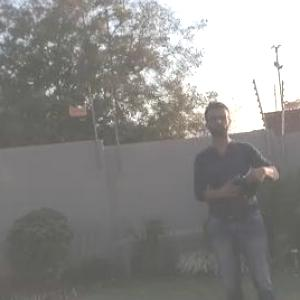follow: (188, 92, 282, 299)
